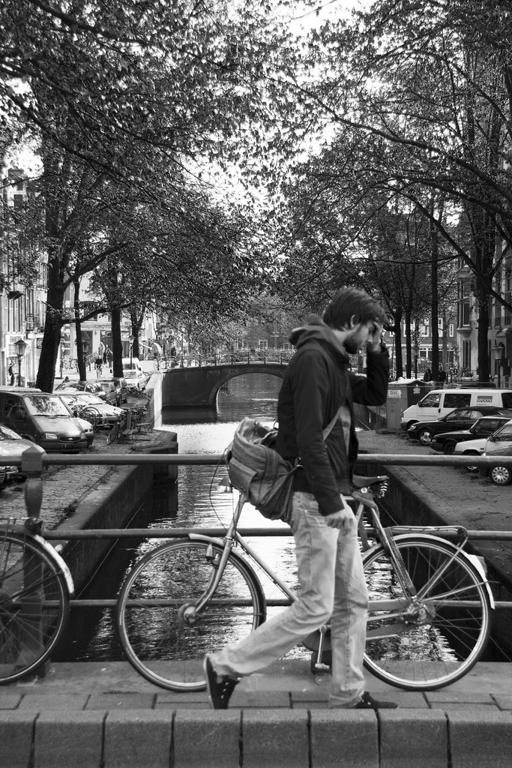non-vehicle: (110, 472, 496, 697), (0, 467, 75, 691)
